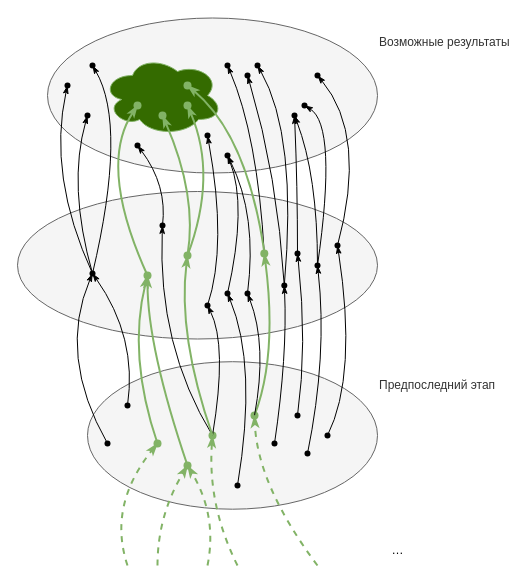
This 528x583 diagram has some shape labels left out. Here are the shapes that lost their labels. From the top down, the box of each, then its label:
(102, 54, 222, 136): Успех
(16, 190, 378, 339): Последний этап
